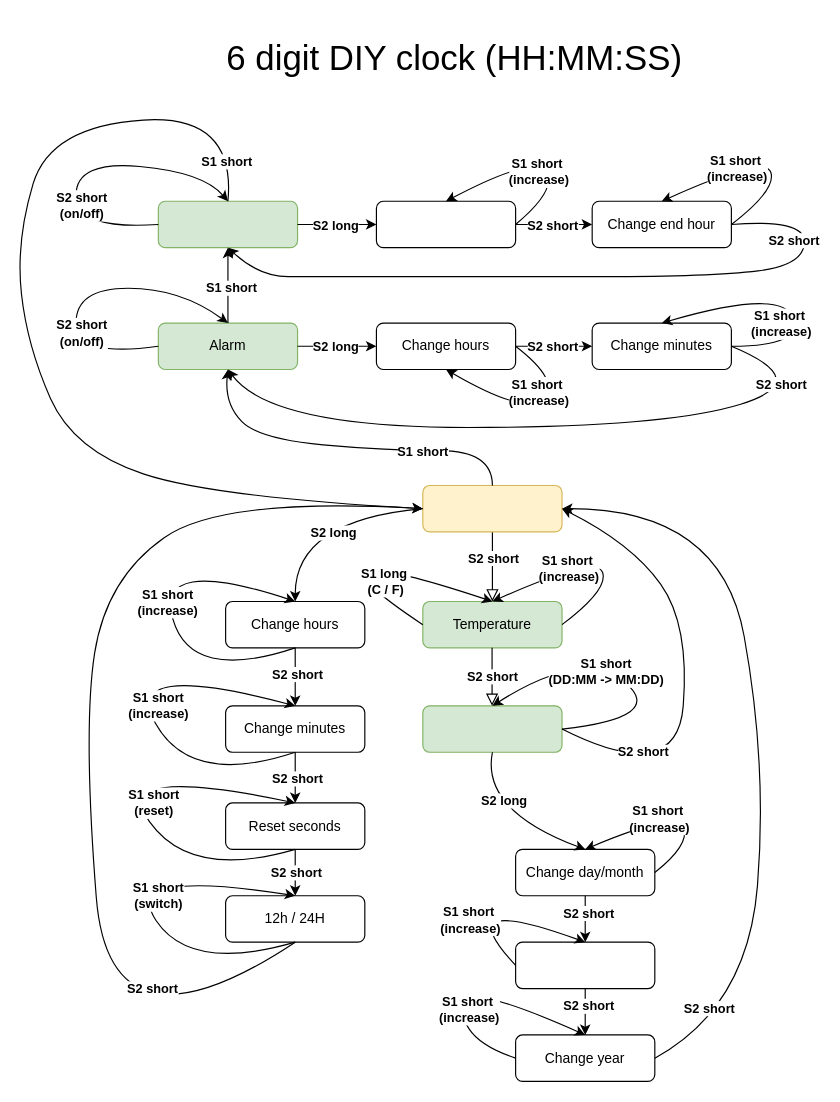
This 840x1102 diagram has some shape labels left out. Here are the shapes that lost their labels. From the top down, the centre of each, then its label:
At (x=227, y=224): "Chime".
At (x=445, y=224): "Change start hour".
At (x=492, y=508): "Normal (HH:MM:SS)".
At (x=492, y=728): "Date".
At (x=584, y=965): "Change month/day".
